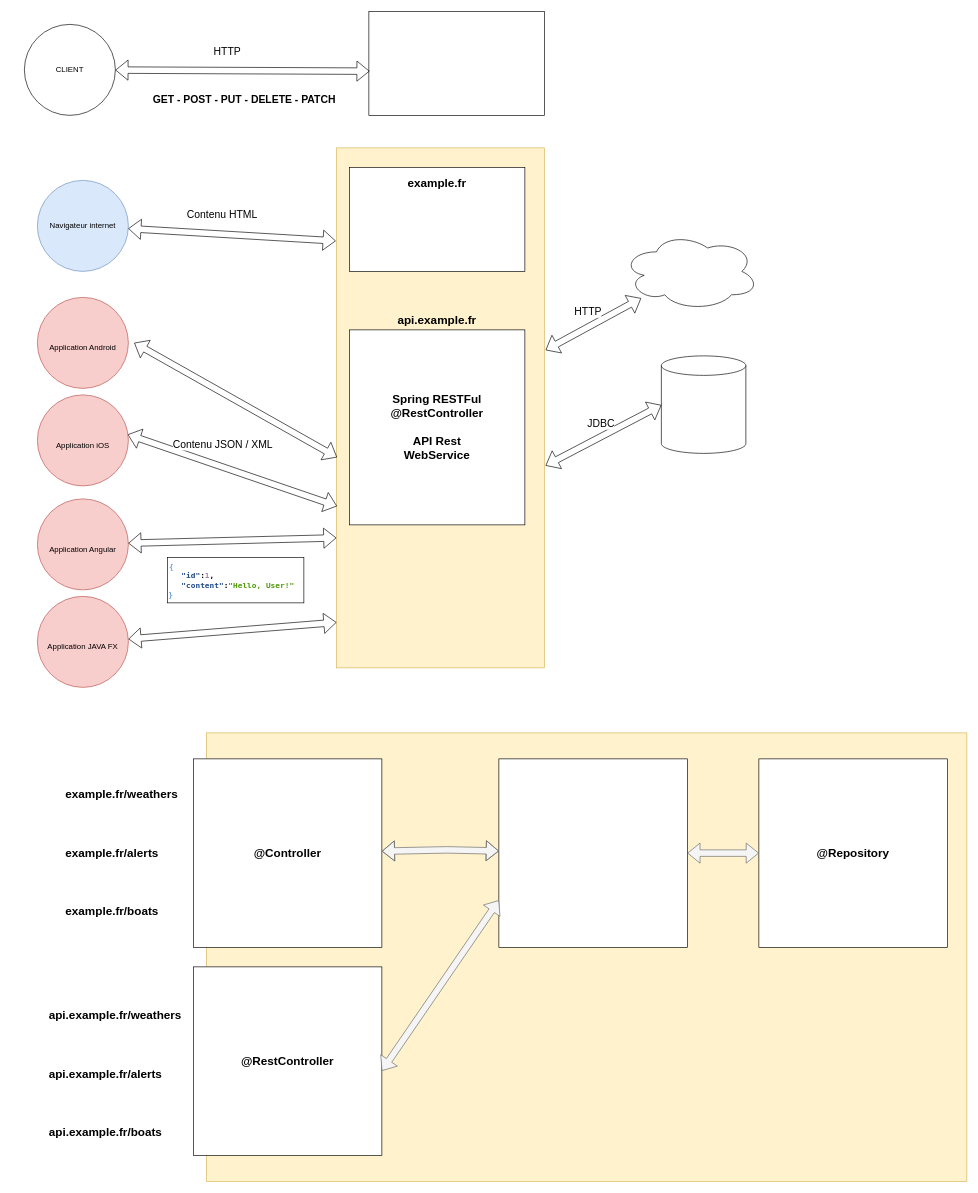
Image size: 978x1193. Some labels were removed from this diagram. Each missing label, with the box of its shape:
@Service: (498, 758, 687, 947)
APPLICATION SPRING BOOT: (206, 732, 967, 1181)
SERVEUR: (368, 11, 544, 115)
Spring MVC @Controller: (349, 167, 525, 271)
TOMCAT + SPRING BOOT: (336, 147, 544, 668)
